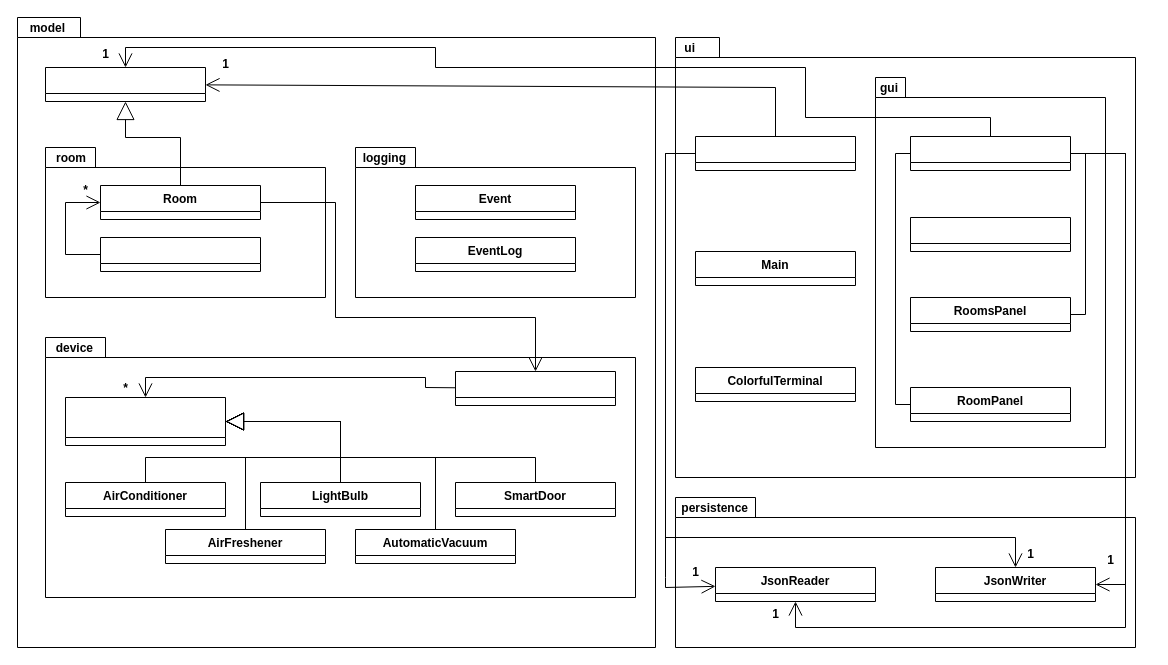
Some shapes in this 1168 by 665 pixel diagram are drawn without their labels. Here are the shapes that lost their labels. From the top down, the centre of each, then its label:
the point at 125,84: House
the point at 775,153: HouseApp
the point at 990,153: GraphicalUI
the point at 180,254: RoomManager
the point at 990,234: HomePanel
the point at 535,388: DeviceManager
the point at 145,421: <<abstract>> Device
